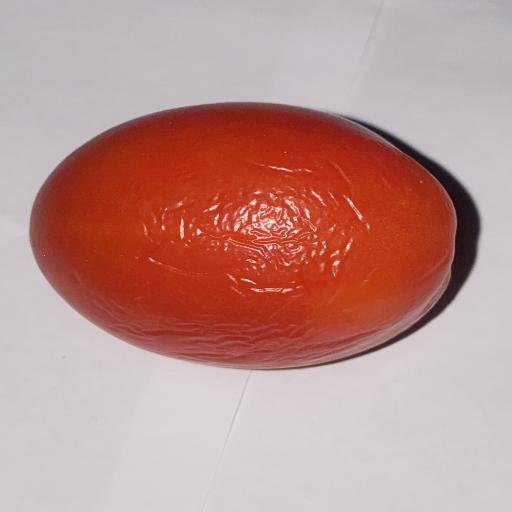spoiled: (31, 103, 456, 368)
